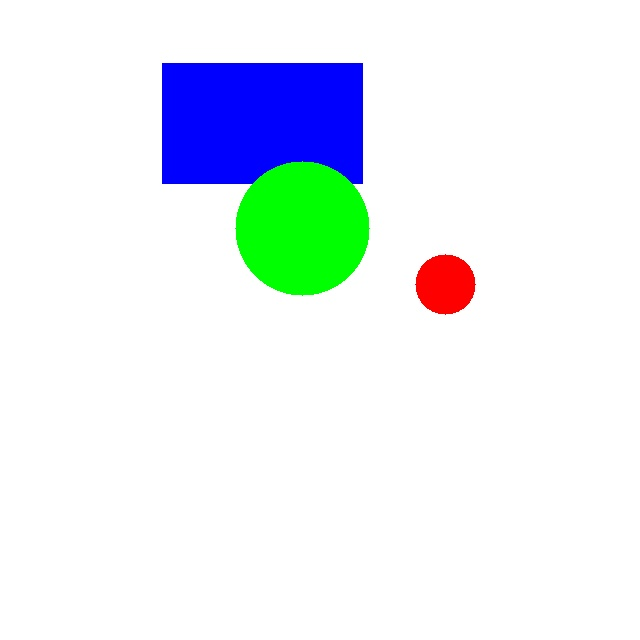cartao: (162, 63, 362, 183)
rosca_externa: (235, 161, 369, 295)
rosca_interna: (415, 254, 475, 314)
